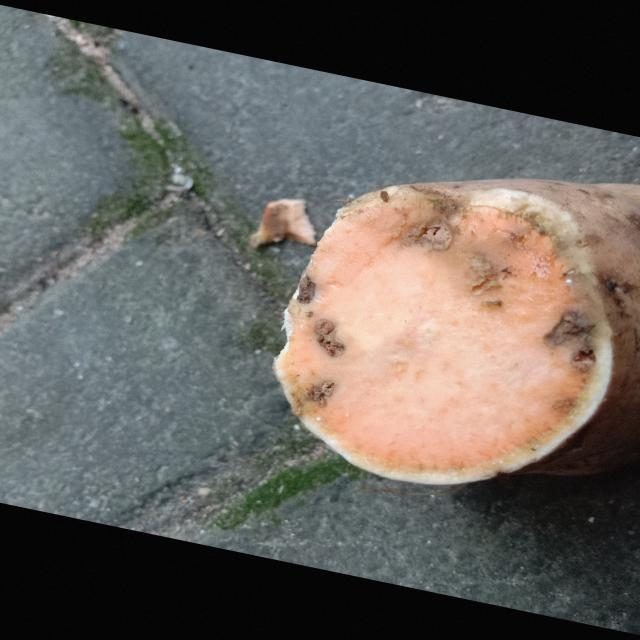Sick Sweet Potato_Tuber Rot: (275, 190, 595, 471)
